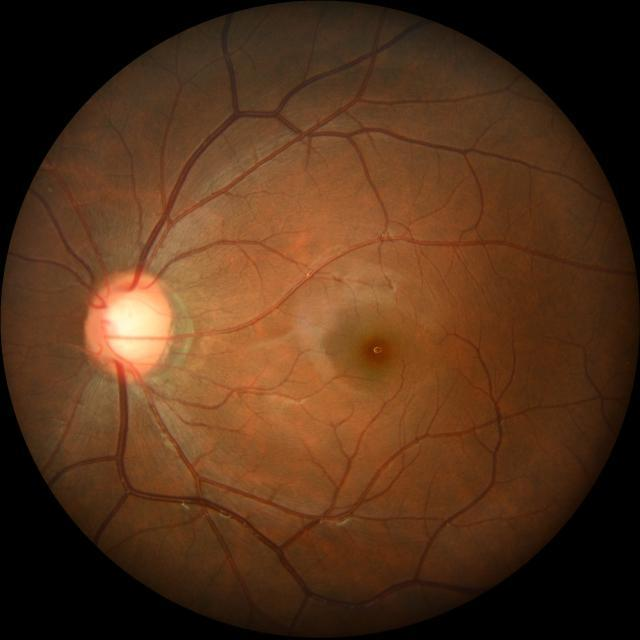OC: (103, 290, 160, 360)
OD: (84, 272, 173, 378)
